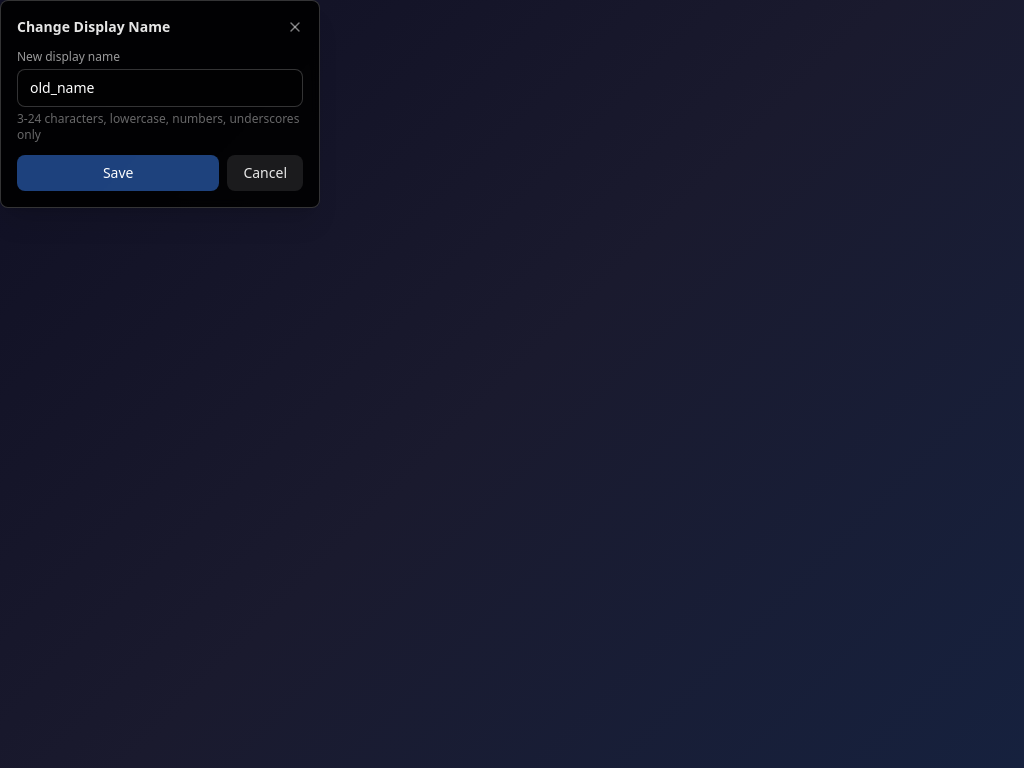
Scenario: ProfileRename - Rename Flow › 400 validation error shows message
This screenshot has width=1024, height=768.
Replace the text in the field labelled "New display name" with "ab" at {"x": 160, "y": 88}, box [17,69,303,107]
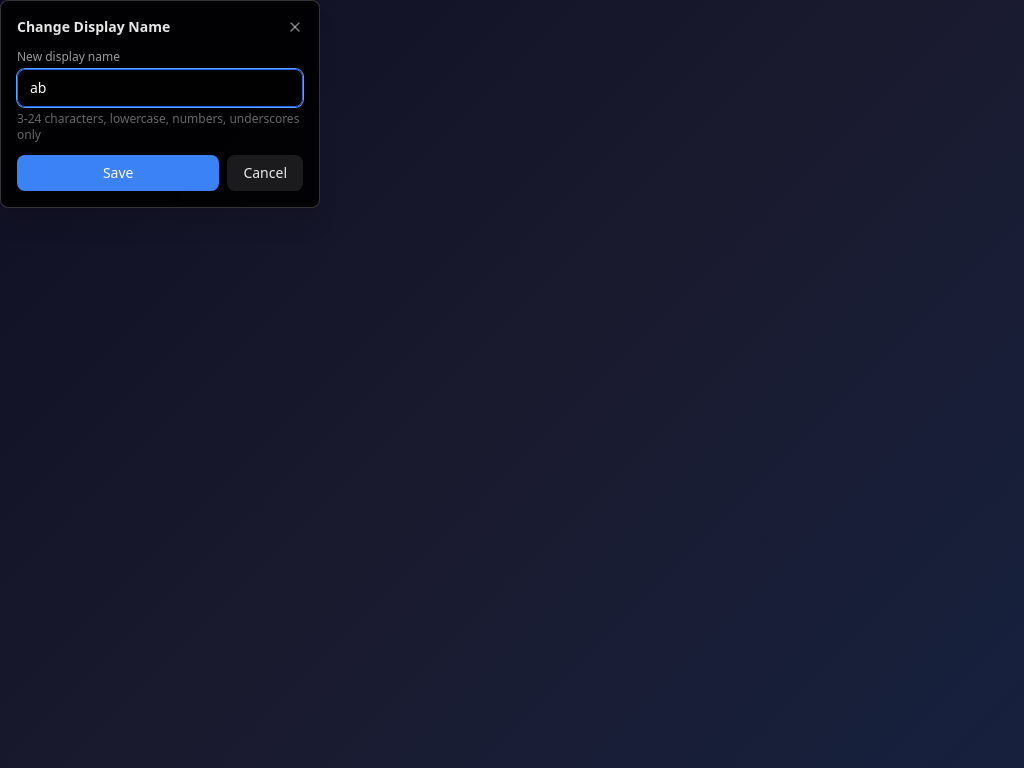
Click the button "Save" at {"x": 118, "y": 173}, box [17,155,219,191]
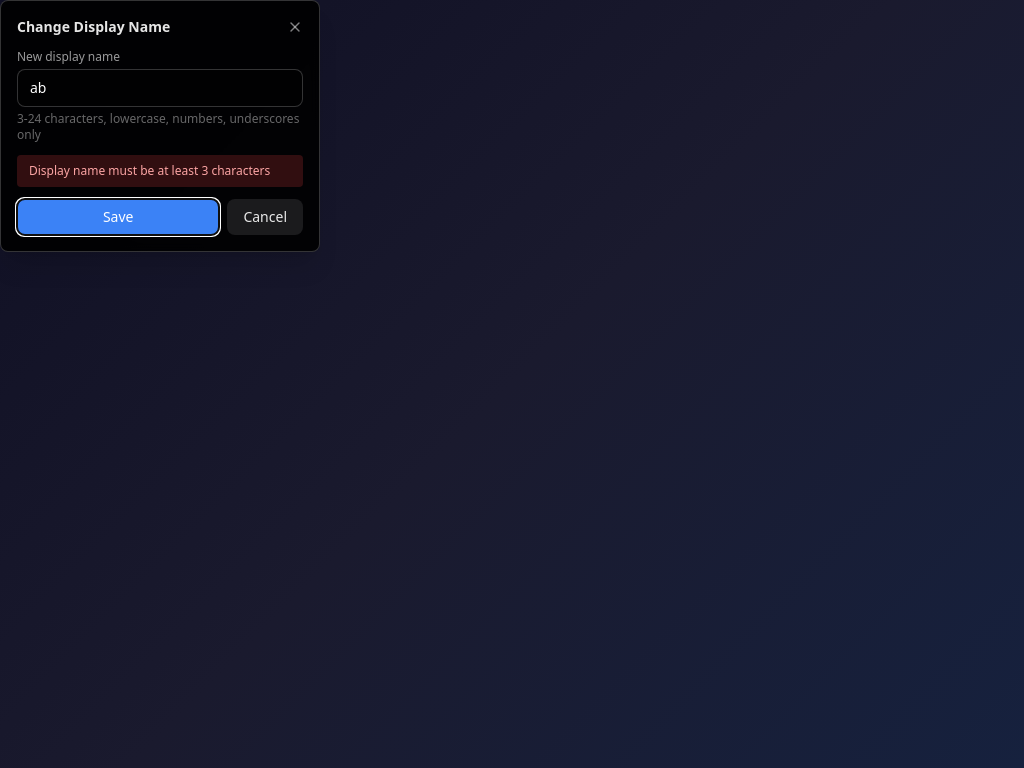
Expected: the text "Display name must be at least 3 characters" is shown, [17,155,303,187]
